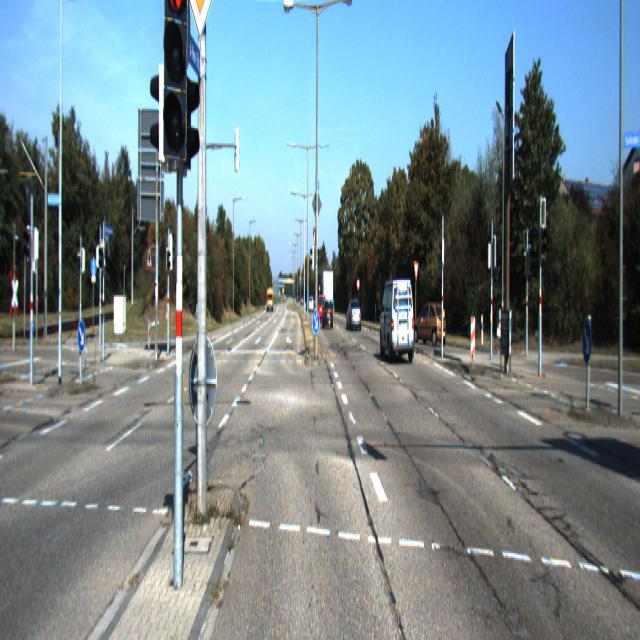Car: (380, 275, 415, 365), (412, 298, 447, 344), (346, 298, 362, 330)
